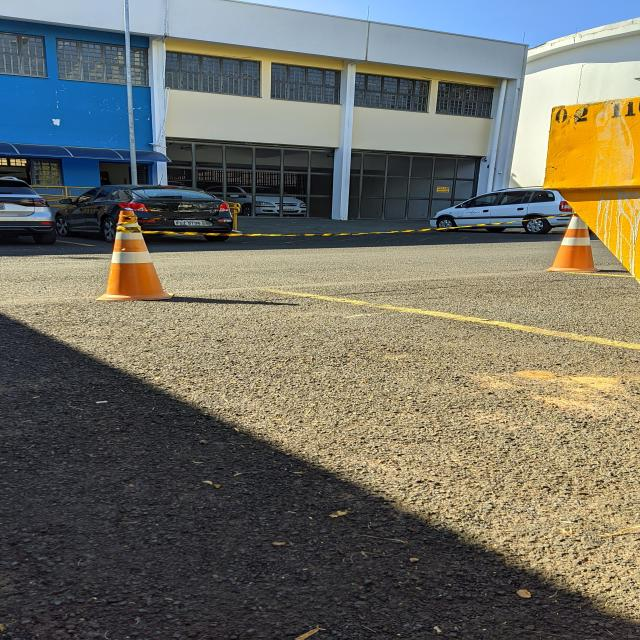cone: (87, 205, 179, 303), (542, 202, 602, 274)
